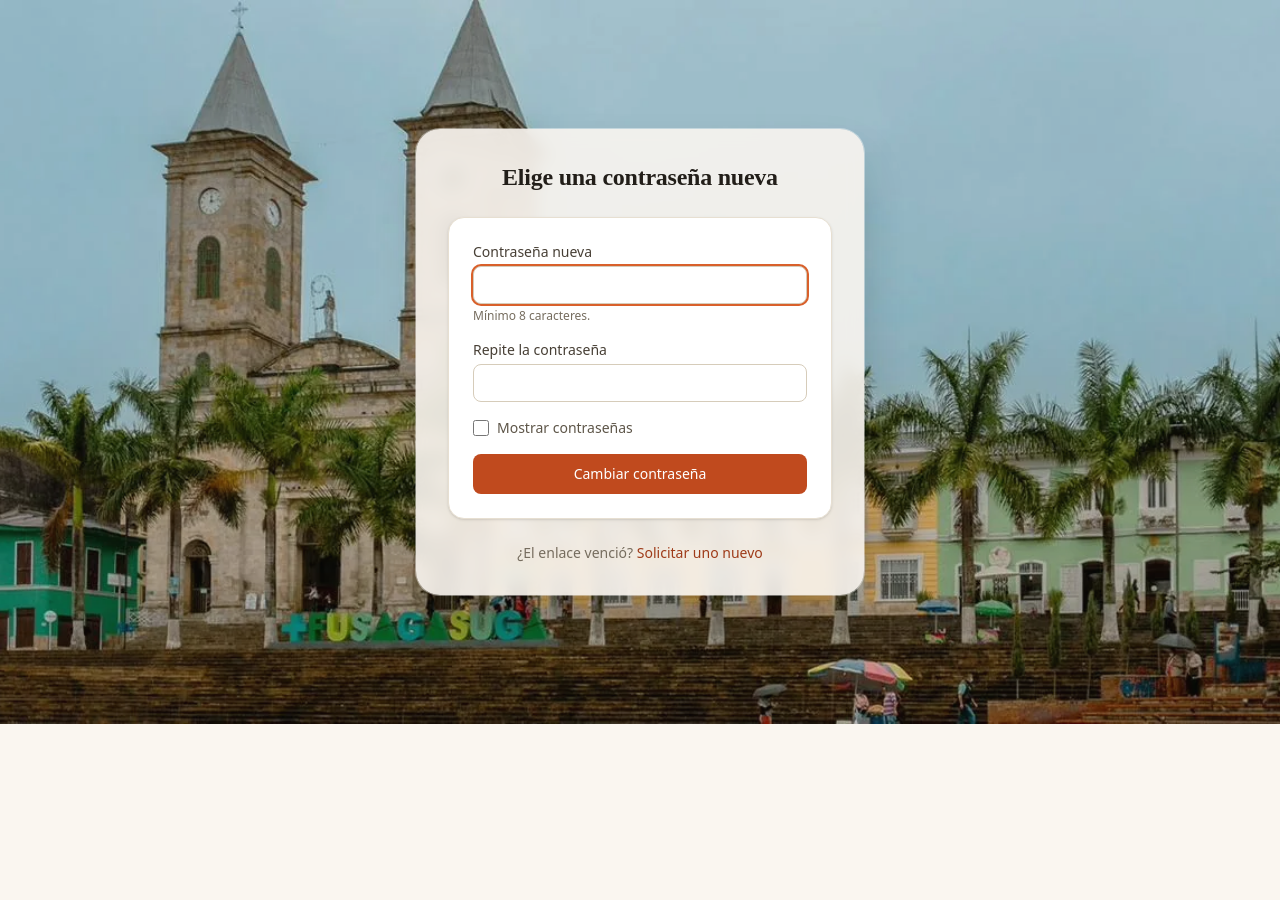
Test: RestablecerContrasena con token › rechaza si las dos contraseñas no coinciden
The image size is (1280, 900).
Type "Segura1234" into the password field labelled "Contraseña nueva" at (640, 285), box x1=473 y1=266 x2=807 y2=304
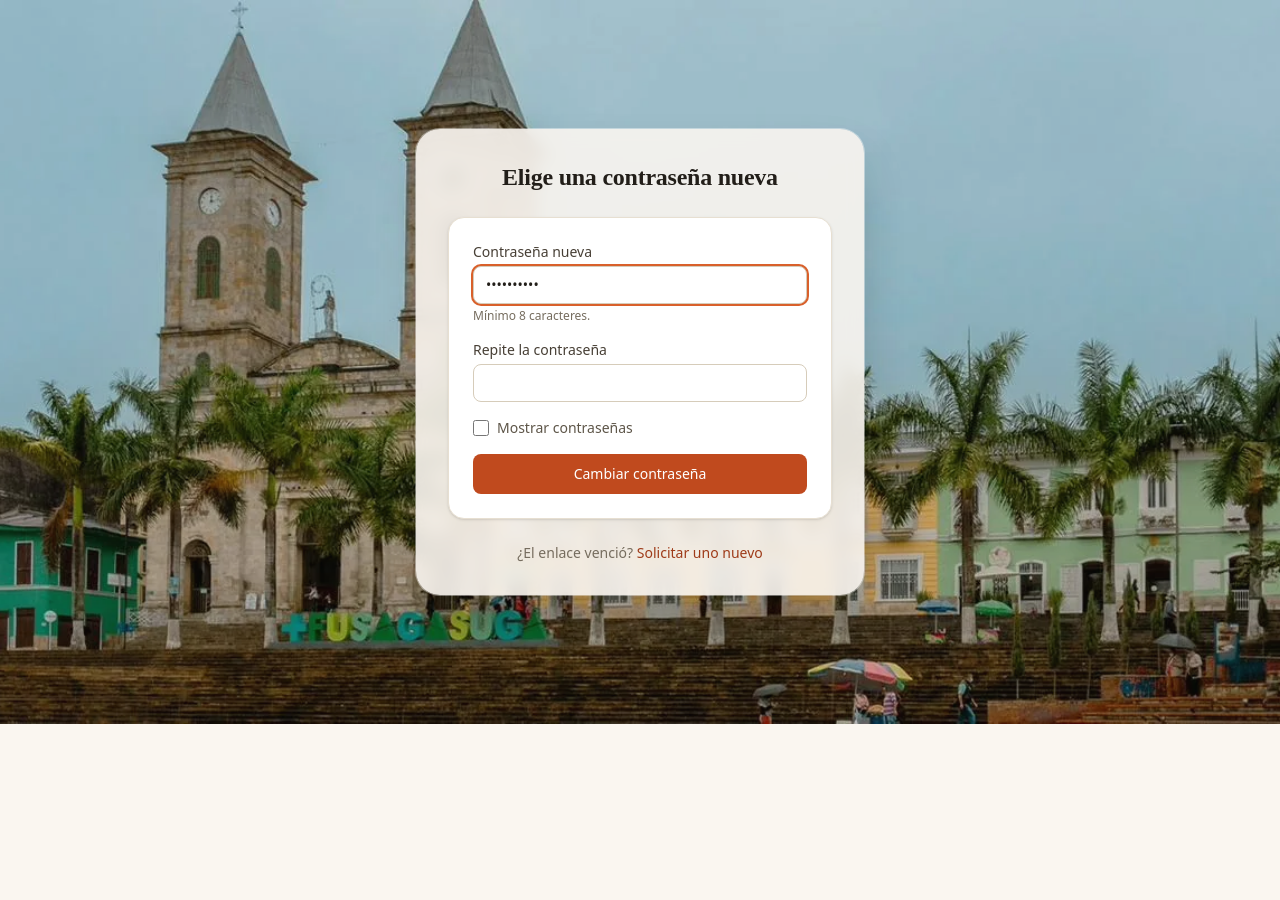
Type "Segura9999" into the password field labelled "Repite la contraseña" at (640, 383), box x1=473 y1=364 x2=807 y2=402
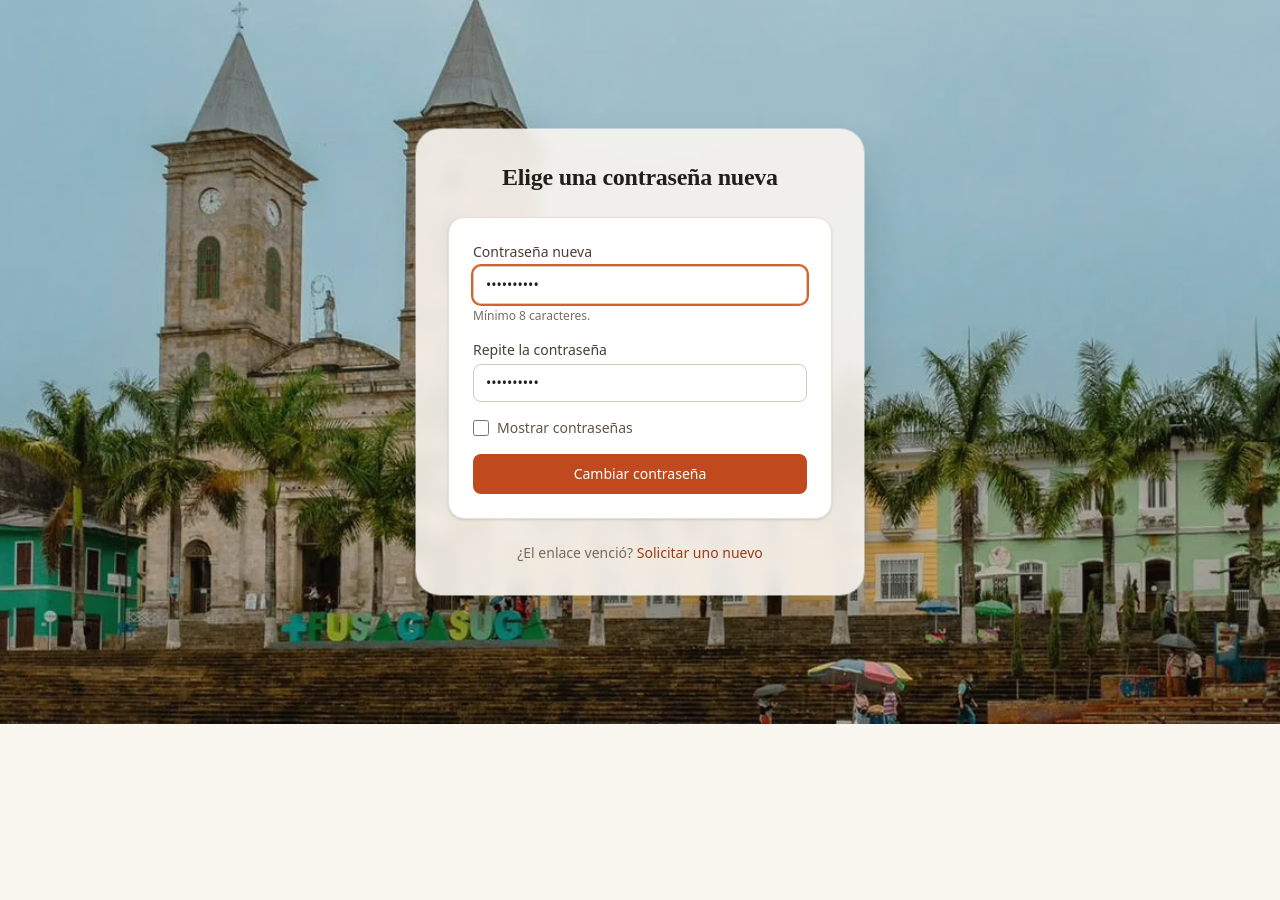
Submit the form labelled "Contraseña nueva", box x1=473 y1=242 x2=807 y2=494
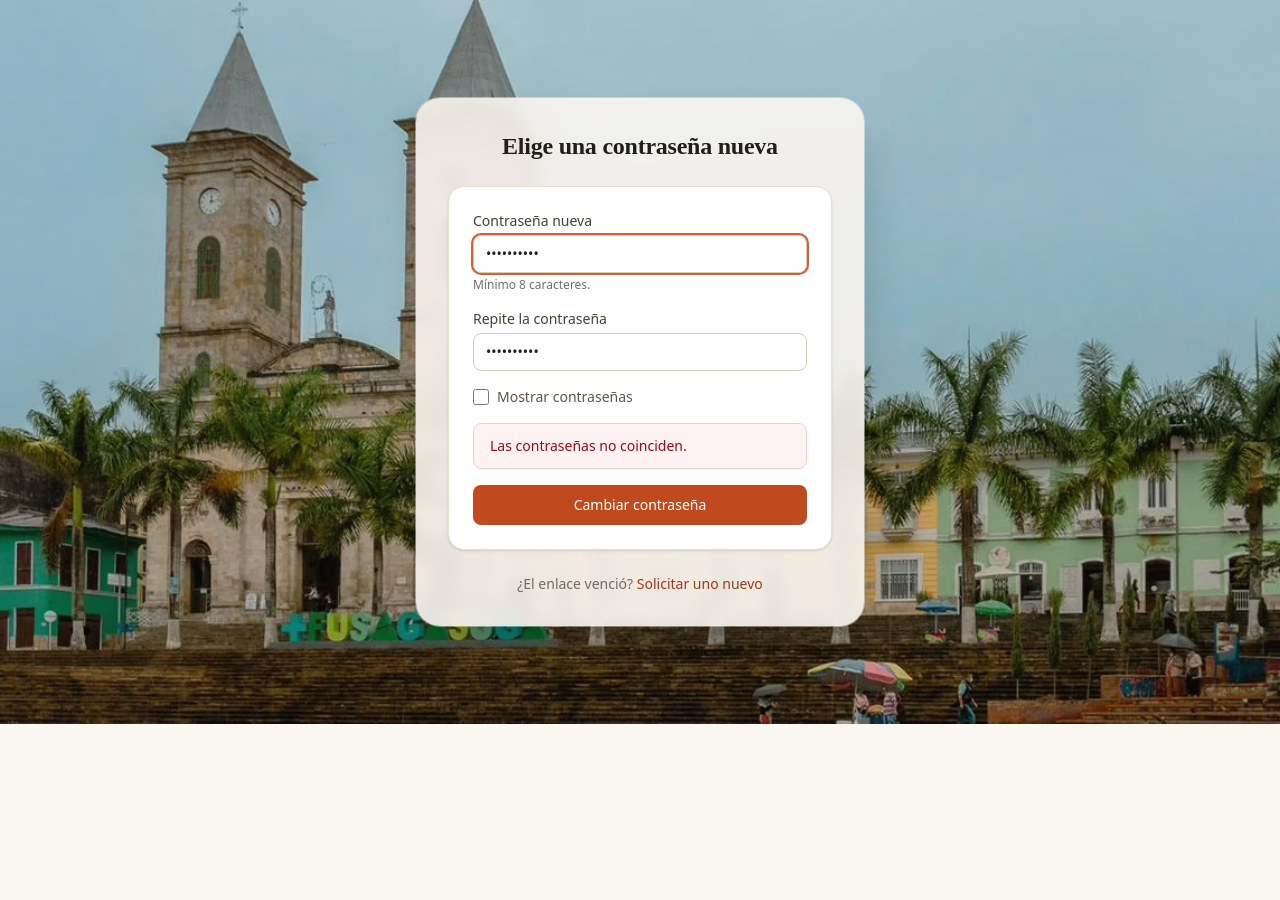
Check: the message shows "no coinciden", box x1=490 y1=436 x2=687 y2=455
